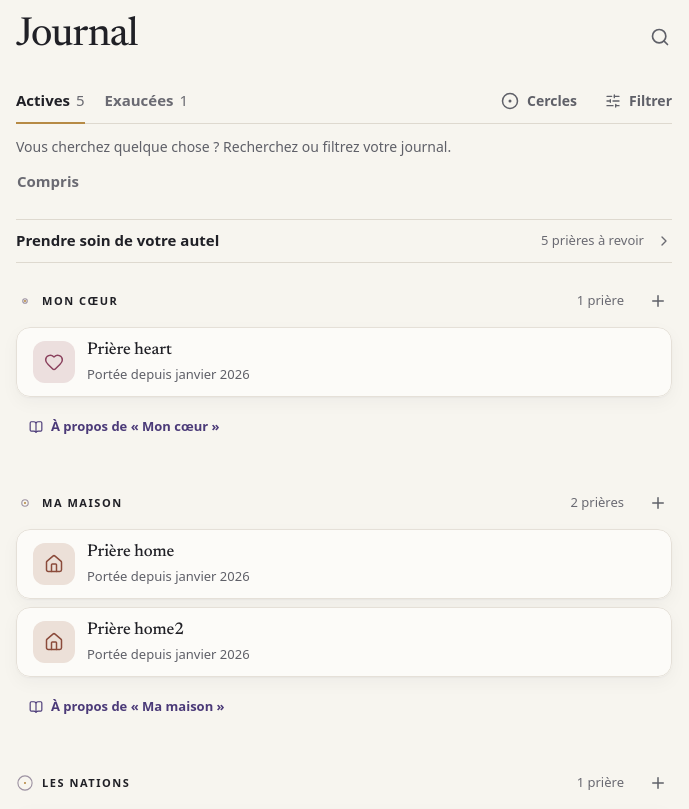
it: PrayersTab — By circle › is offered on Answered only once an answered prayer has a circle
The image size is (689, 809).
Step 1. Click the button "Exaucées1" → (146, 102), box [105, 80, 188, 124]
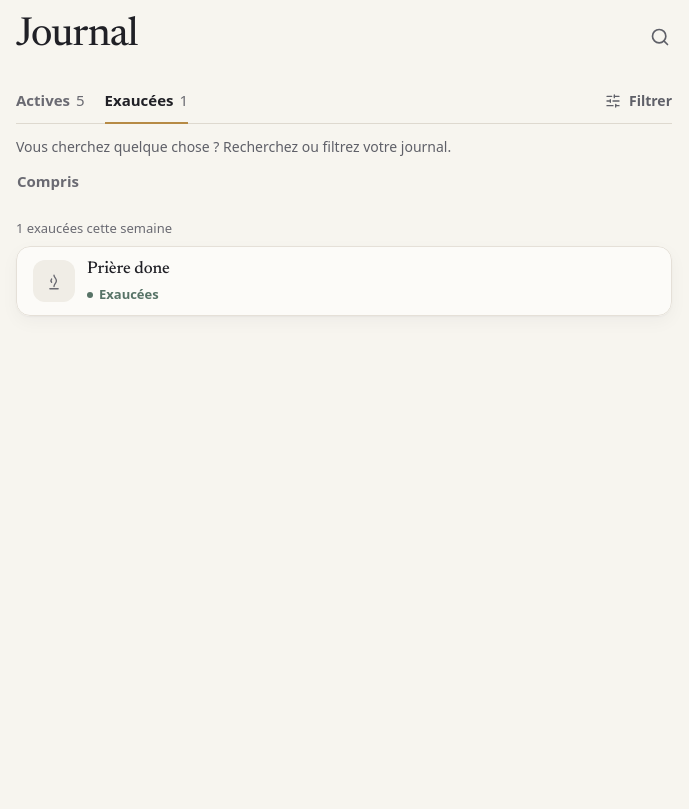
Result: the text "Prière done" is shown at [87, 261, 170, 278]
